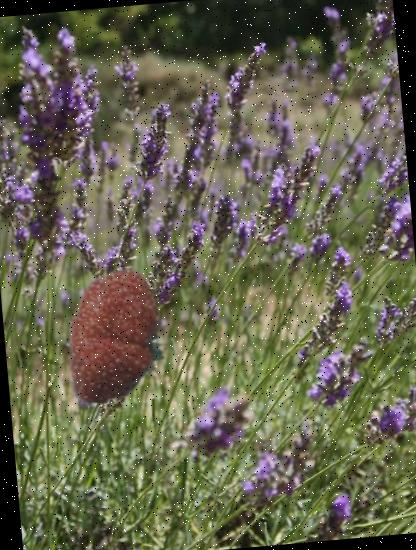Strawberry: (44, 260, 194, 410)
